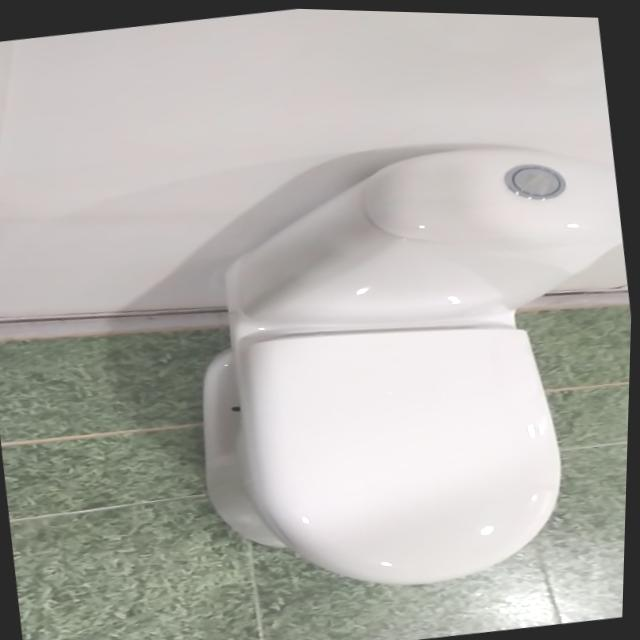toilet: (161, 116, 637, 615)
